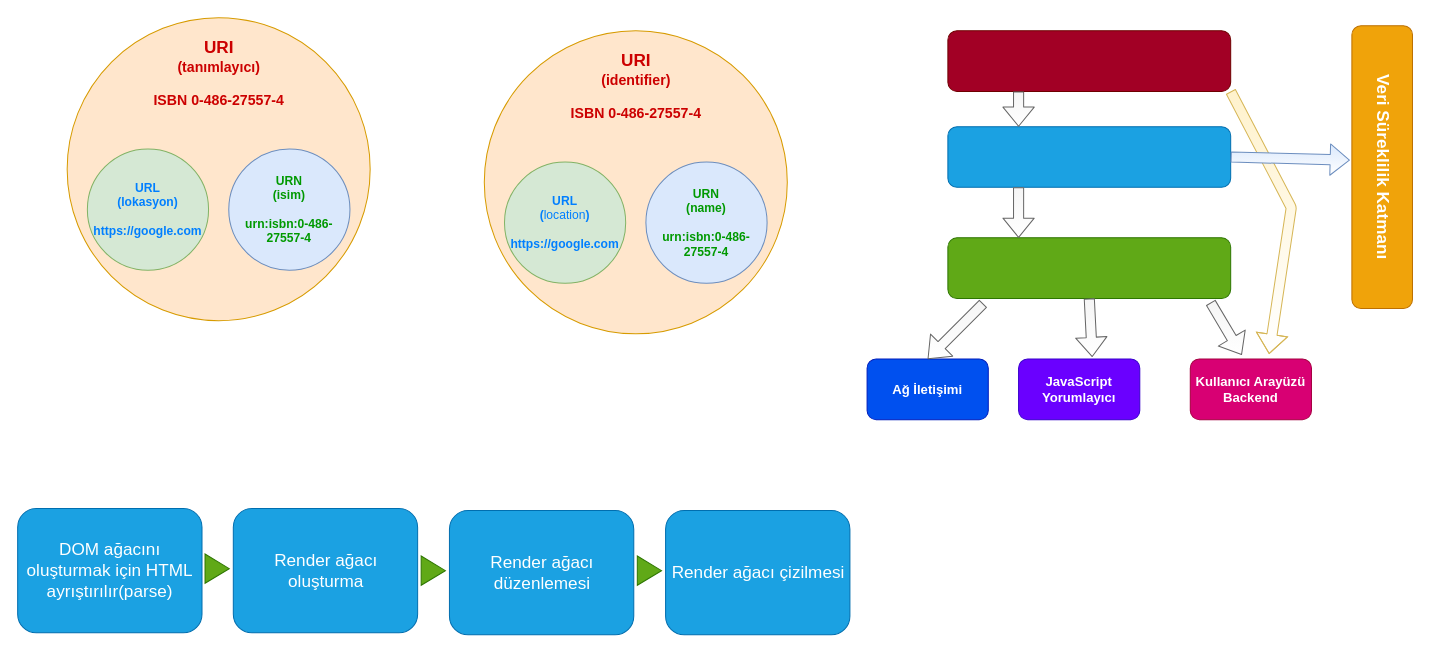
The diagram is 1430 pixels wide and 652 high, and some of its shapes have lost their labels. The shapes that lost their labels are listed below. From the top down, each one's centre as x and y in pixels, then its label:
At (1089,60): "Kullanıcı Arayüzü".
At (1089,156): "Tarayıcı Motoru".
At (1089,267): "Rendering Motoru".
